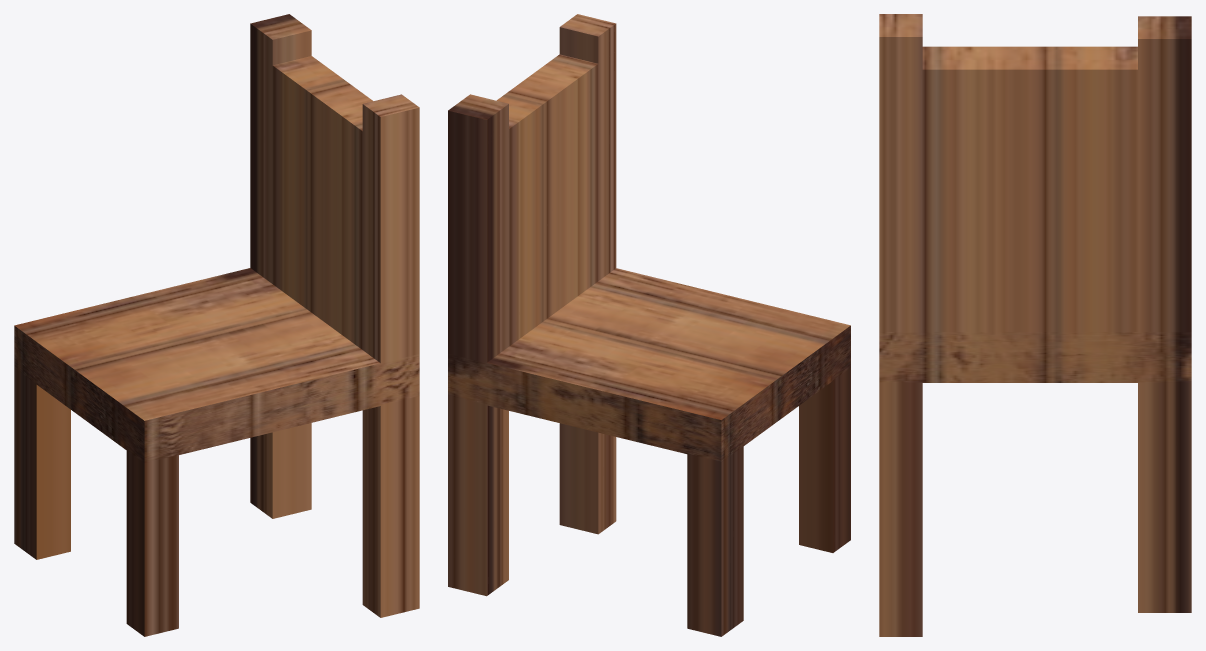
The model's file is chair2.glb.
3 renders of one model, left to right at view 1: azimuth 30°, elevation 25°; view 2: azimuth 150°, elevation 25°; view 3: azimuth 270°, elevation 25°, orthographic. The views are drawn at different scales.
Parts seen in each view (by area): view 1: Cube; view 2: Cube; view 3: Cube.
Part boxes in pixels (x1,y1,x2,y2): Cube: (14, 14, 419, 636); Cube: (448, 14, 850, 636); Cube: (879, 14, 1191, 636).
Size of the model in its own units: 4.3 by 7.48 by 3.52.
1 material, 1 textured.
